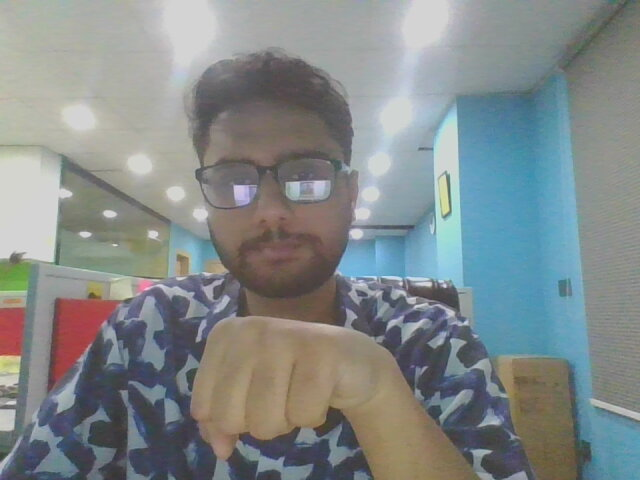yes: (182, 296, 427, 480)
